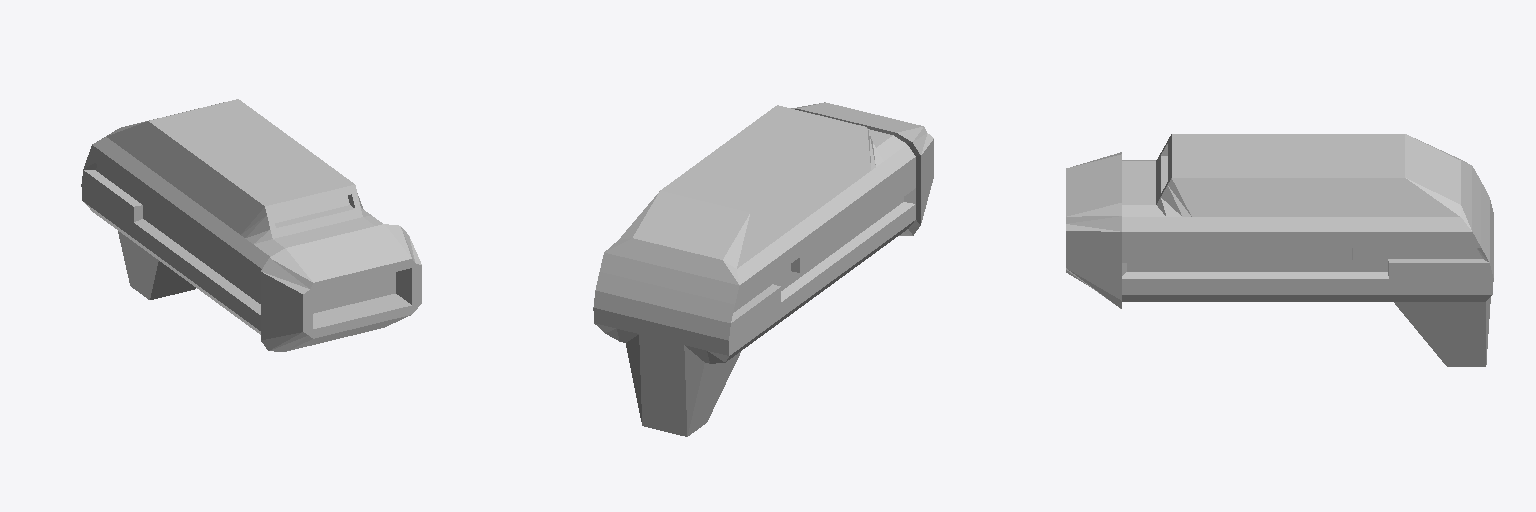
File: Weapon.OBJ
3 views of the same model, side by side, from view 1: azimuth 30°, elevation 25°; view 2: azimuth 150°, elevation 25°; view 3: azimuth 270°, elevation 25° (orthographic).
Parts seen in each view (by area): view 1: Group2; view 2: Group2; view 3: Group2.
Part boxes in pixels (x1,y1,x2,y2): Group2: (81, 99, 421, 351); Group2: (593, 102, 933, 436); Group2: (1066, 134, 1493, 366).
Size of the model in its own units: 0.8013 by 1.03 by 2.